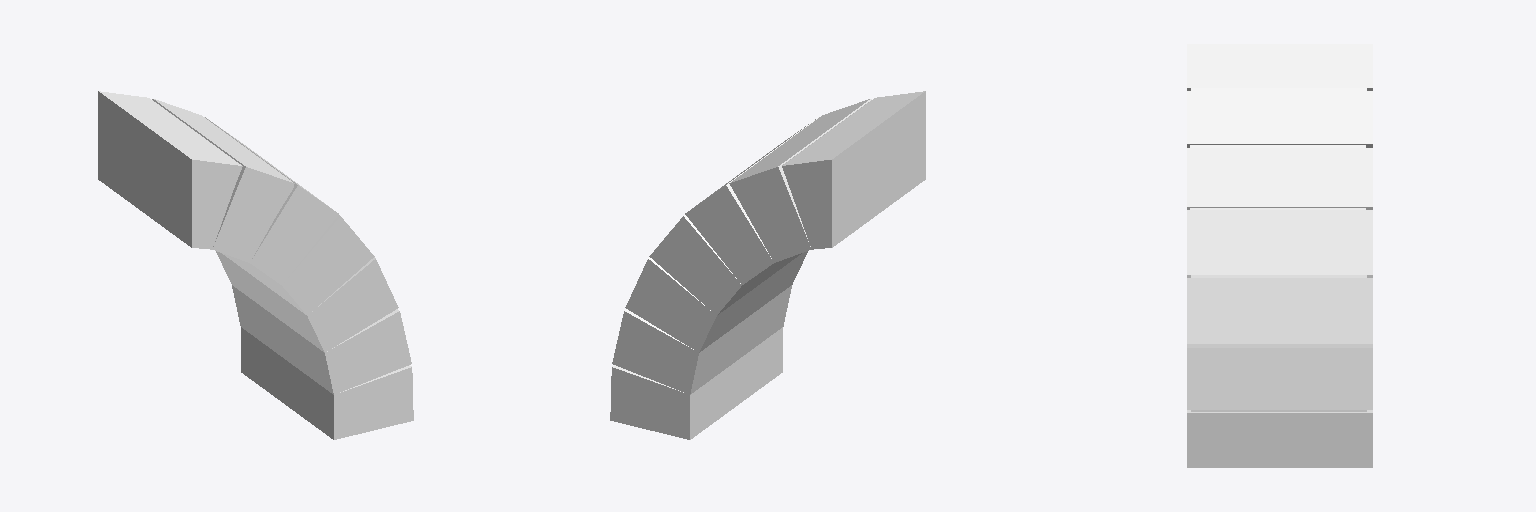
Rendered from generic_gothic_arch_2.obj.
3 renders of one model, left to right at view 1: azimuth 30°, elevation 25°; view 2: azimuth 150°, elevation 25°; view 3: azimuth 270°, elevation 25°, orthographic.
Visible parts, largest first — view 1: cube.061, cube.055, cube.056, cube.057, cube.060, cube.058, cube.059; view 2: cube.061, cube.055, cube.056, cube.057, cube.060, cube.058, cube.059; view 3: cube.057, cube.058, cube.056, cube.059, cube.055, cube.060, cube.061, cube.062, cube.067, cube.069, cube.070.
Boxes of the visible parts, <box> form: cube.061: <box>98,91,241,249</box>; cube.055: <box>241,327,413,439</box>; cube.056: <box>232,285,411,394</box>; cube.057: <box>216,251,398,352</box>; cube.060: <box>152,99,294,262</box>; cube.058: <box>222,215,374,315</box>; cube.059: <box>205,117,338,284</box>; cube.061: <box>782,91,925,249</box>; cube.055: <box>610,327,782,439</box>; cube.056: <box>612,285,791,394</box>; cube.057: <box>625,251,807,352</box>; cube.060: <box>729,99,871,262</box>; cube.058: <box>649,215,801,315</box>; cube.059: <box>685,117,818,284</box>; cube.057: <box>1187,278,1372,343</box>; cube.058: <box>1187,210,1372,277</box>; cube.056: <box>1187,344,1372,409</box>; cube.059: <box>1187,148,1372,209</box>; cube.055: <box>1187,410,1372,467</box>; cube.060: <box>1187,91,1372,147</box>; cube.061: <box>1187,44,1372,90</box>; cube.062: <box>1191,344,1366,347</box>; cube.067: <box>1191,275,1366,277</box>; cube.069: <box>1190,145,1365,147</box>; cube.070: <box>1191,88,1366,90</box>.
Bounding box in the file's own units: 1.55 × 2.1 × 1.13.